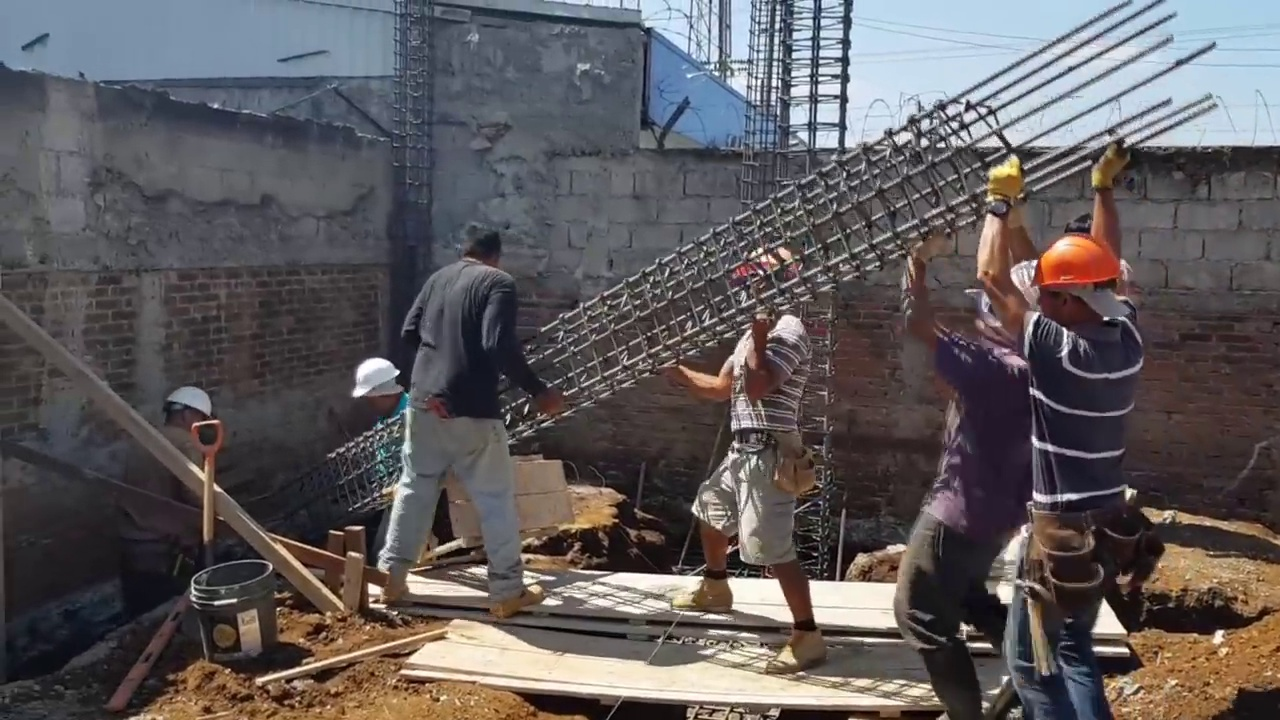helmet: (1029, 228, 1134, 301), (350, 359, 394, 405), (739, 249, 793, 283), (164, 387, 212, 418)
helmet-off: (453, 228, 501, 272)
helmet-on: (1030, 228, 1132, 344), (734, 246, 806, 327), (156, 387, 209, 439), (348, 363, 396, 417)
person: (902, 184, 1054, 720), (1012, 144, 1153, 720), (366, 219, 555, 635), (671, 240, 819, 673), (116, 380, 233, 603), (348, 347, 461, 557)
